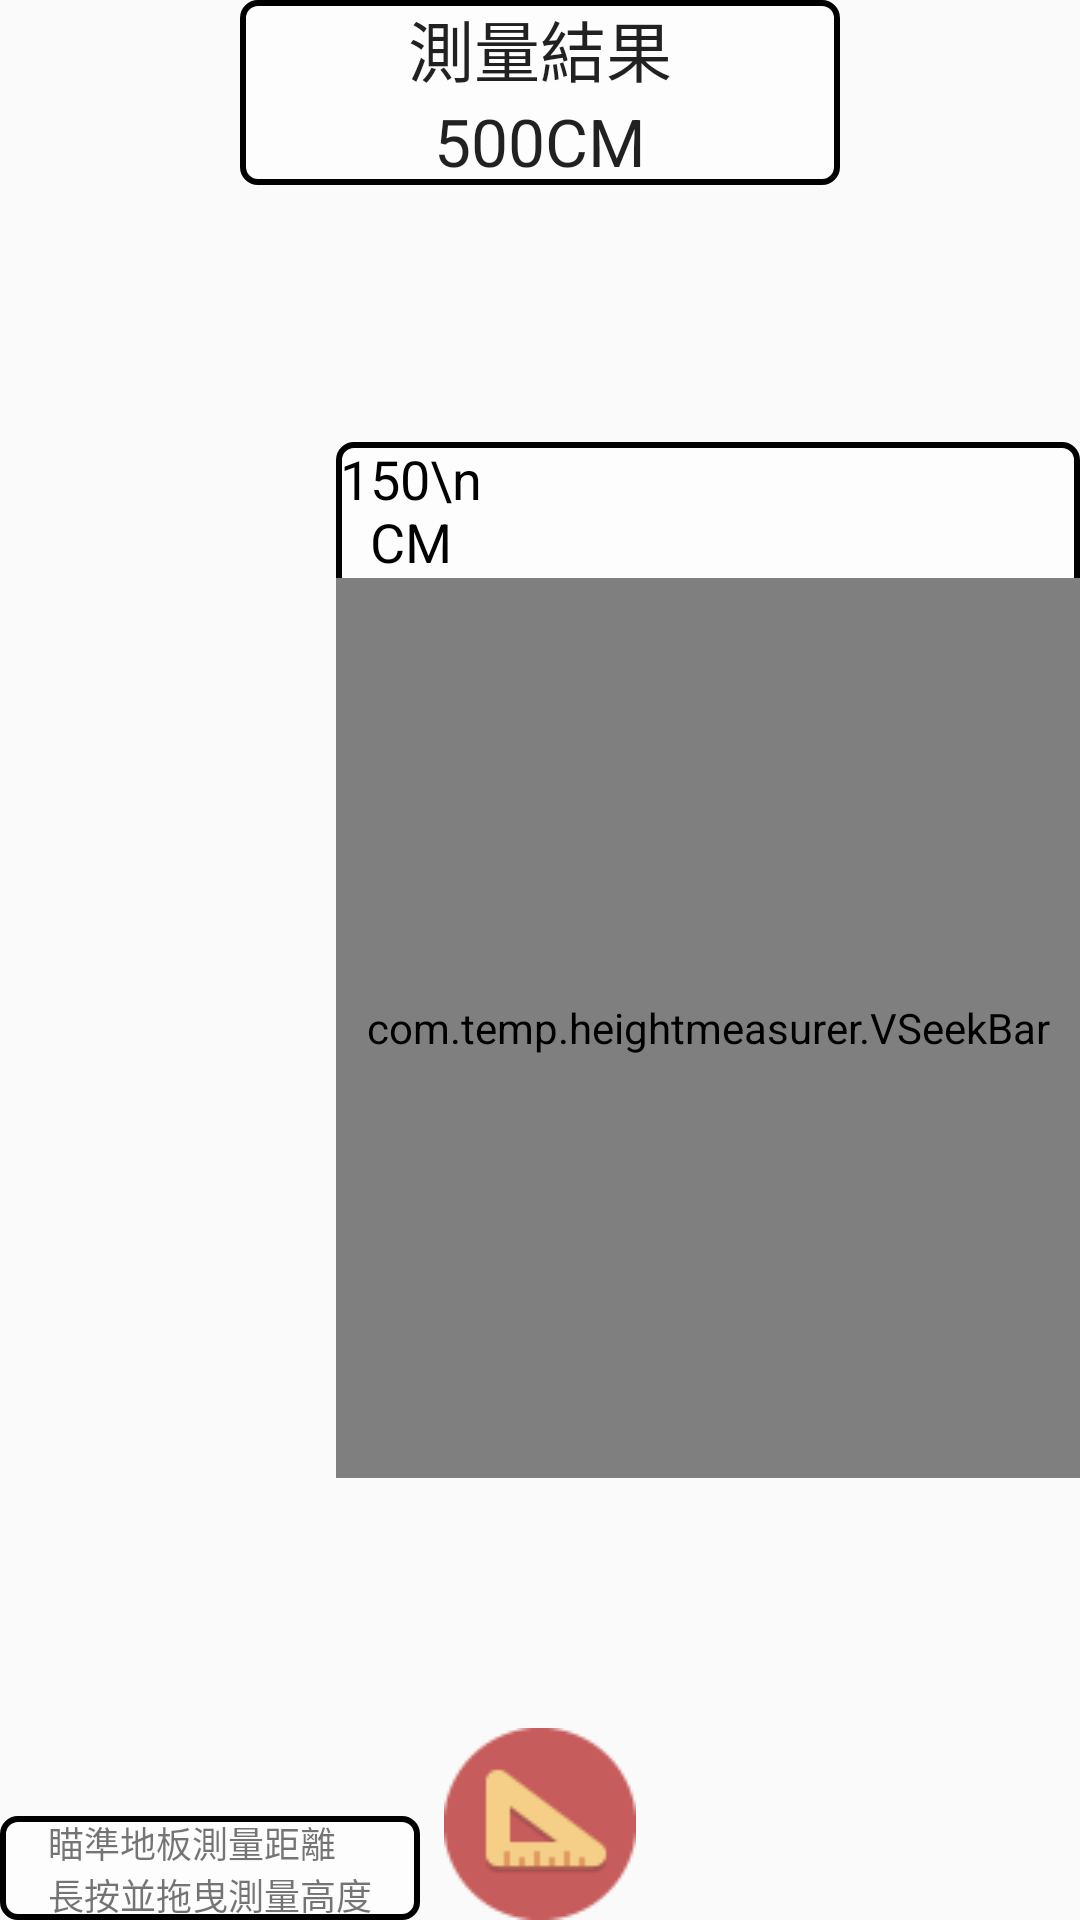

Where to tap for icons on this 1080 x 1920 app screen, as (x=x, y=y):
ruler: (x=540, y=1824)
